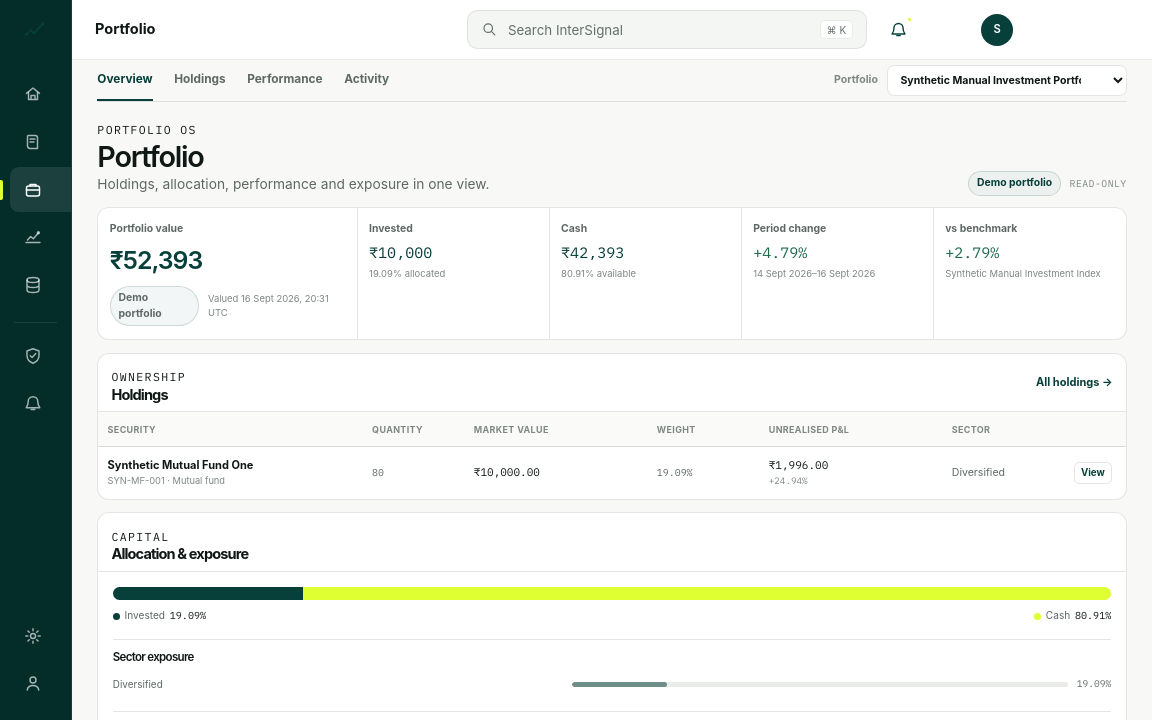
Test case: Portfolio detail routes › exposes all Portfolio command destinations
Expected: the heading "Portfolio" is shown, [97,139,203,174]
Click the button with aria-label "Open command palette" at (565, 30), box [467,10,867,49]
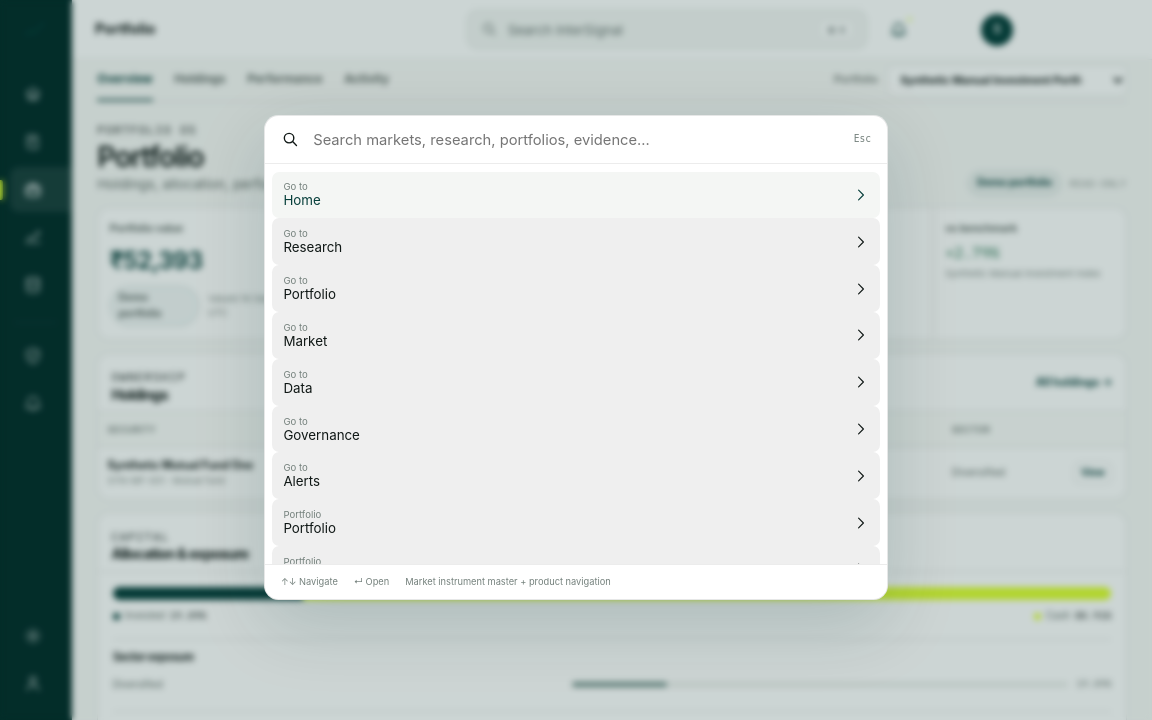
Type "Portfolio" into the field named "Search commands" at (577, 140), box [311,130,842,150]
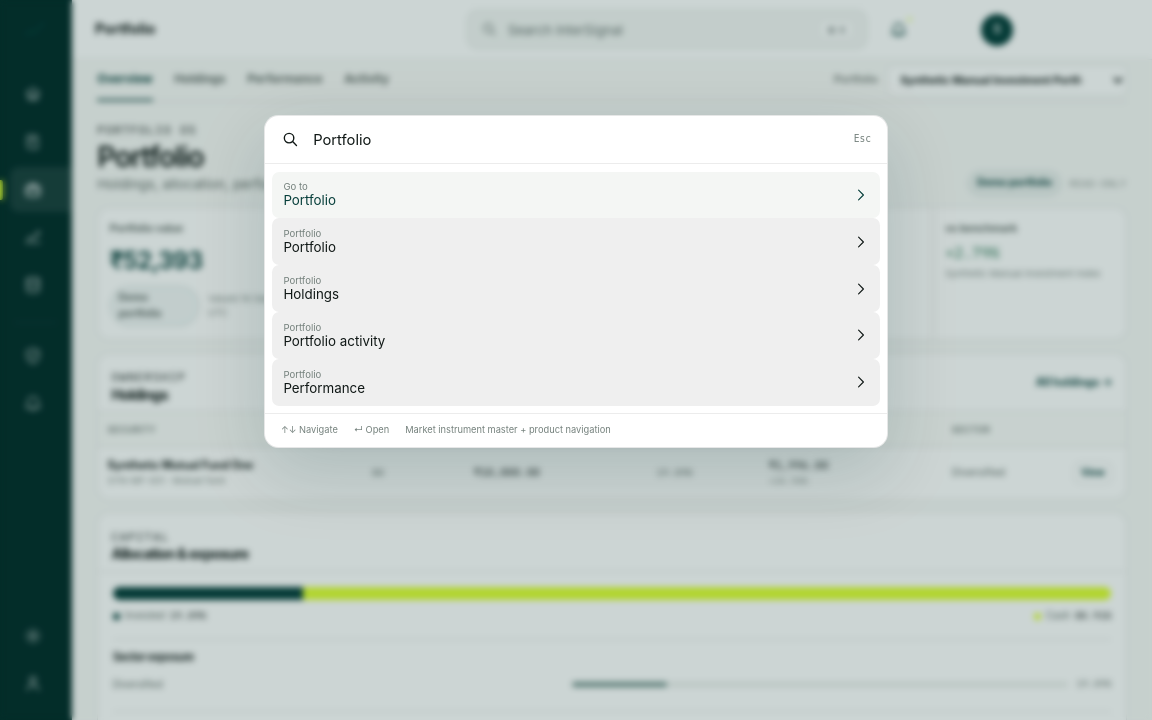
Replace the text in the field named "Search commands" with "Holdings" at (577, 140), box [311,130,842,150]
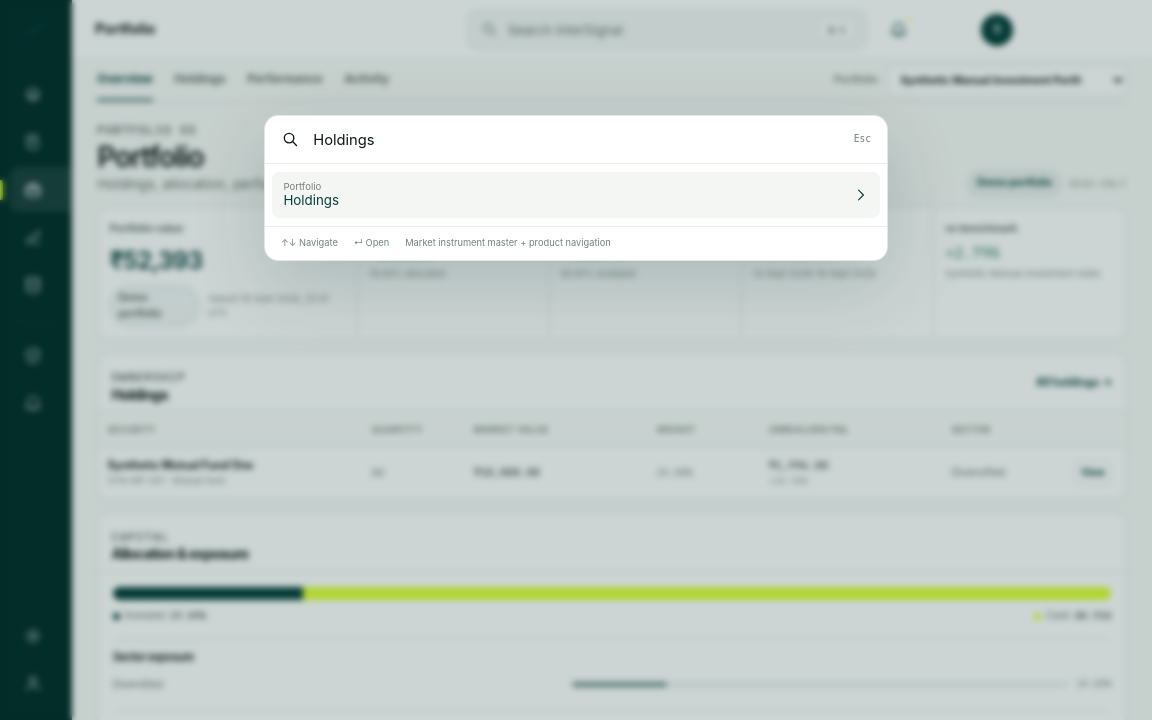
Expected: the option "Portfolio Holdings" is shown, [272,172,880,218]
Replace the text in the field named "Search commands" with "Portfolio activity" at (577, 140), box [311,130,842,150]
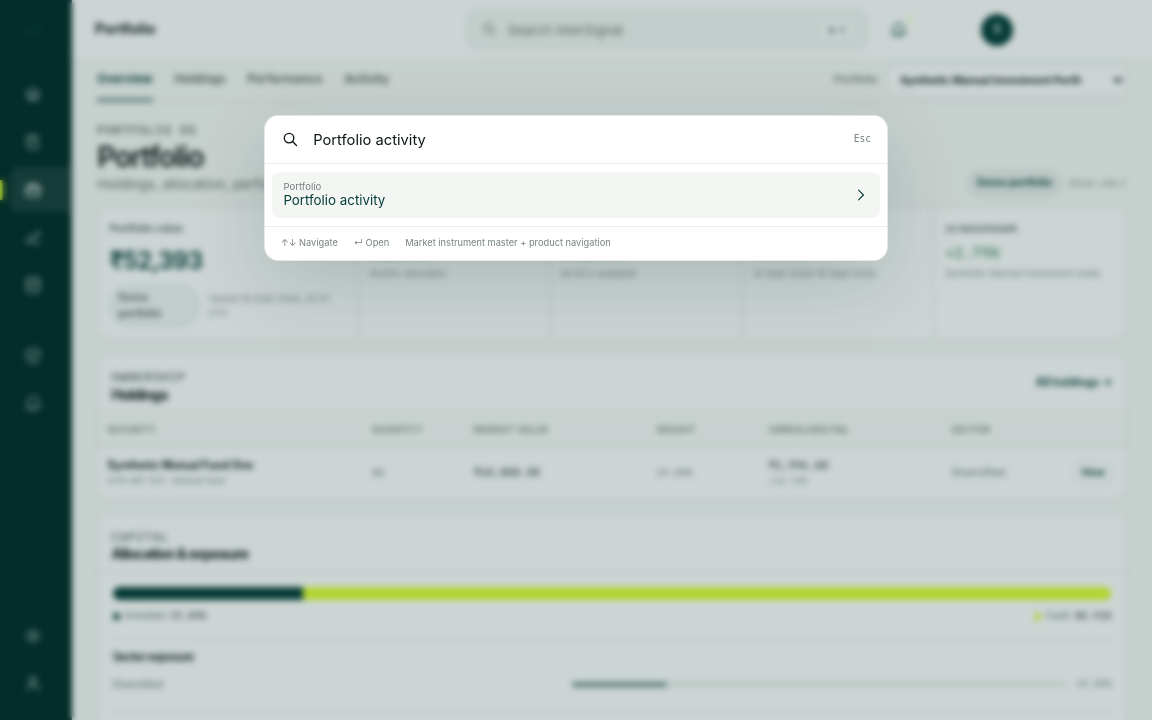
Expected: the option "Portfolio Portfolio activity" is shown, [272,172,880,218]
Replace the text in the field named "Search commands" with "Performance" at (577, 140), box [311,130,842,150]
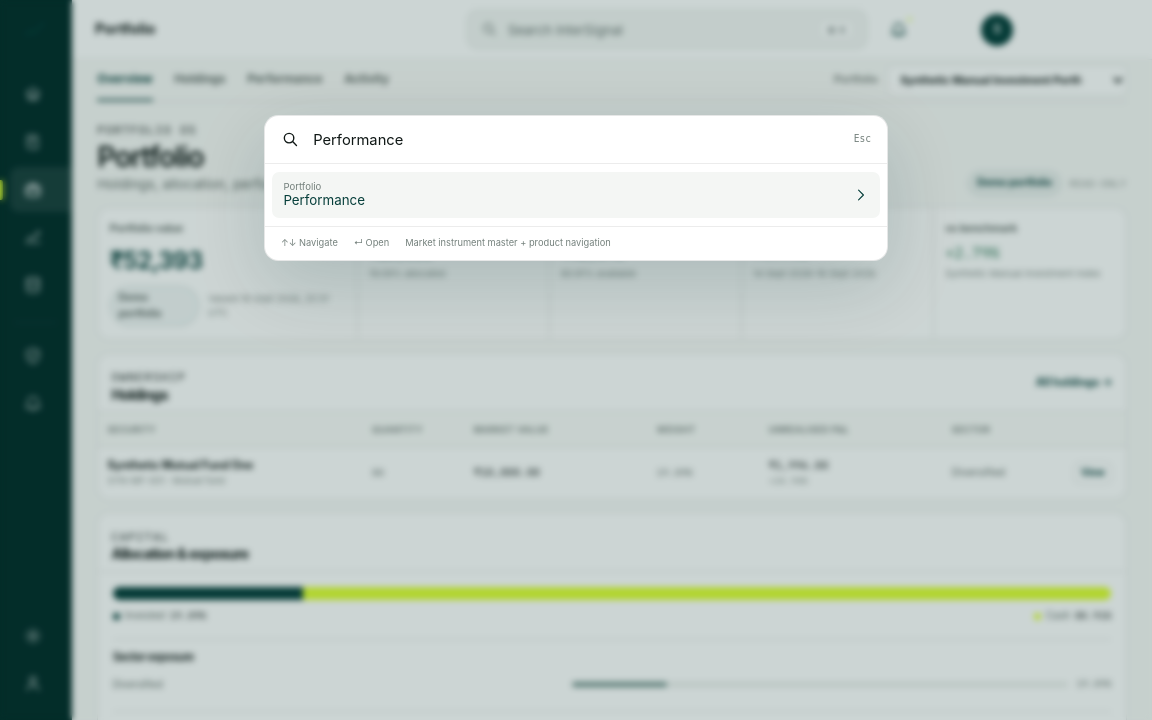
Expected: the option "Portfolio Performance" is shown, [272,172,880,218]
